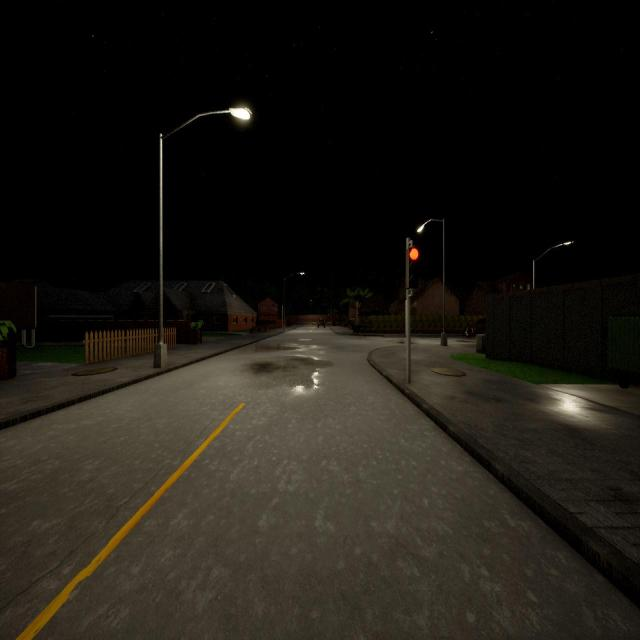Vehicle: (463, 314, 486, 338), (318, 319, 326, 328)
traffic_light: (406, 247, 420, 288), (328, 314, 329, 317)
